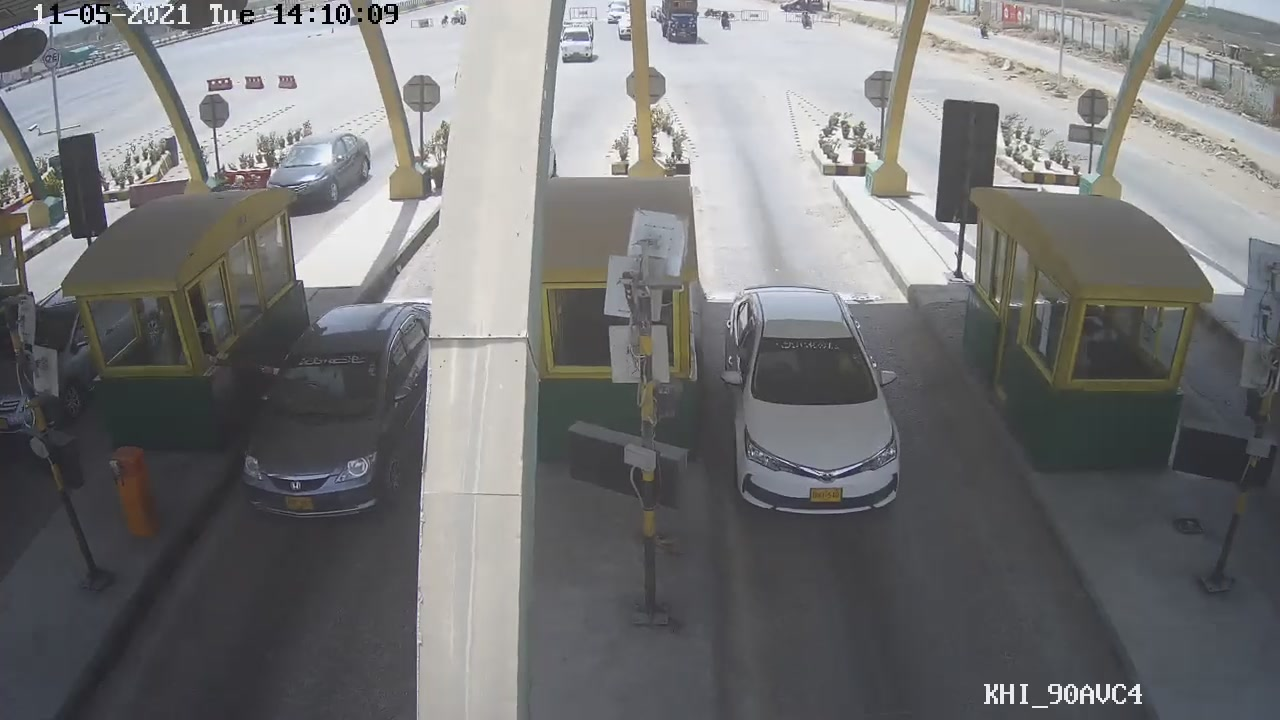F1: (718, 287, 908, 527)
